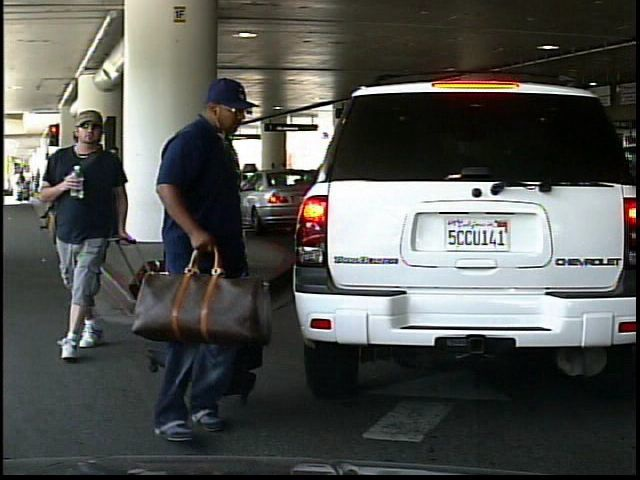person: (150, 75, 277, 442), (48, 101, 137, 359), (163, 131, 225, 271)
